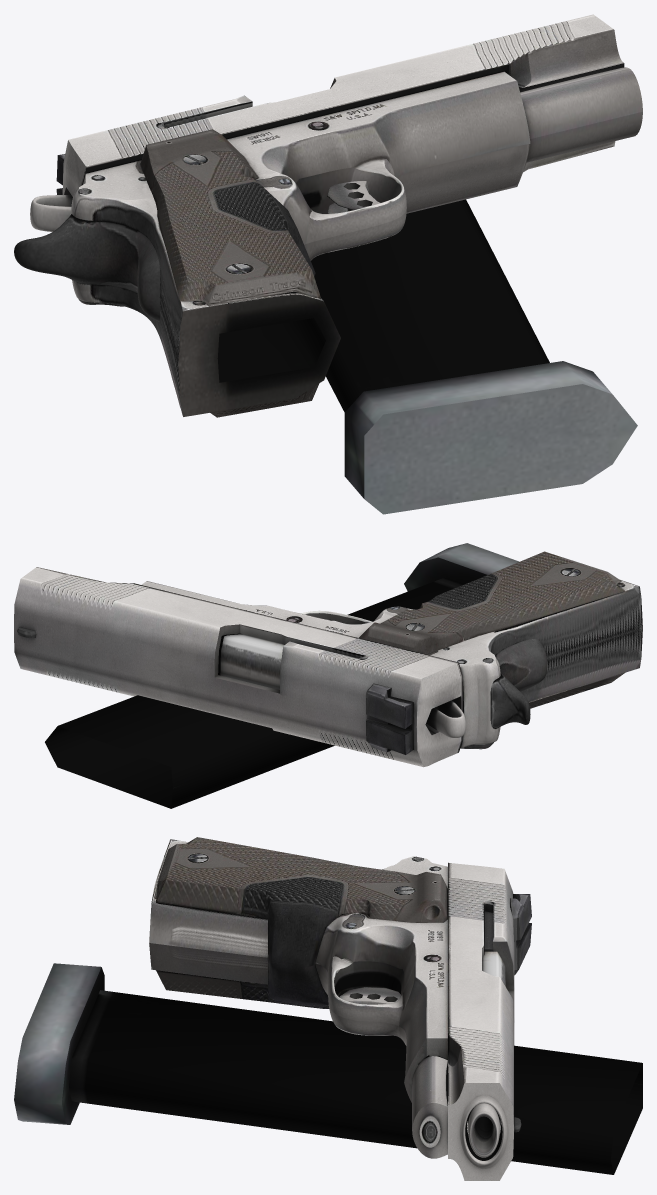
The model's file is pistol.fbx.
3 renders of one model, top to bottom at view 1: azimuth 30°, elevation 25°; view 2: azimuth 150°, elevation 25°; view 3: azimuth 270°, elevation 25°, orthographic. The views are drawn at different scales.
Visible parts, largest first — view 1: Gun, Cube.002, Cube.005, Gun_trigger; view 2: Cube.005, Gun, Cube.002; view 3: Cube.002, Gun, Cube.005, Gun_trigger.
Part boxes in pixels (box(x1,y1,x2,y2)): Gun: box(14, 71, 530, 417); Cube.002: box(311, 199, 637, 514); Cube.005: box(56, 14, 642, 196); Gun_trigger: box(327, 181, 380, 213); Cube.005: box(14, 567, 462, 767); Gun: box(141, 551, 642, 749); Cube.002: box(45, 543, 519, 808); Cube.002: box(14, 963, 642, 1174); Gun: box(149, 837, 506, 1157); Cube.005: box(412, 862, 531, 1180); Gun_trigger: box(338, 987, 400, 1004).
Bounding box in the file's own units: 96.9 × 30.01 × 101.
